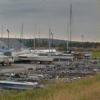Boat: (3, 38, 83, 78)
